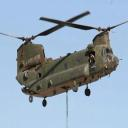helicopter: (1, 15, 128, 104)
